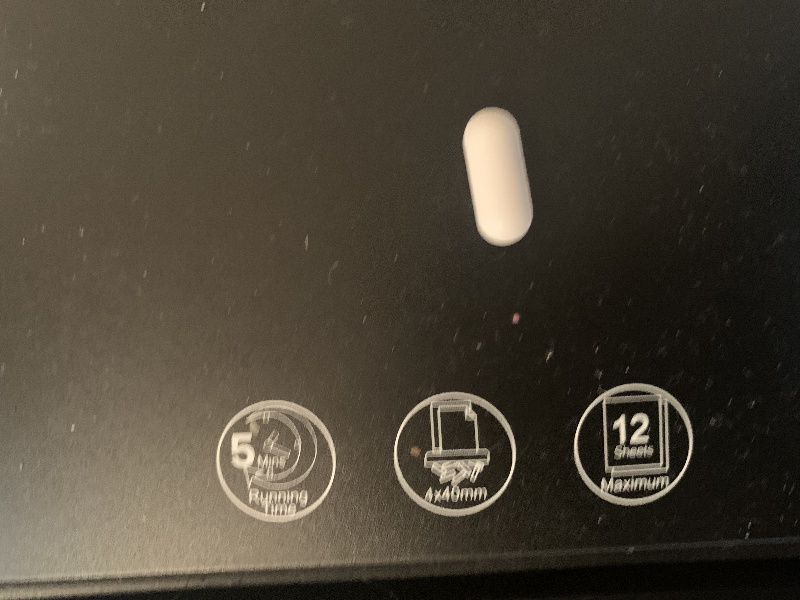Tylenol: (453, 102, 547, 253)
